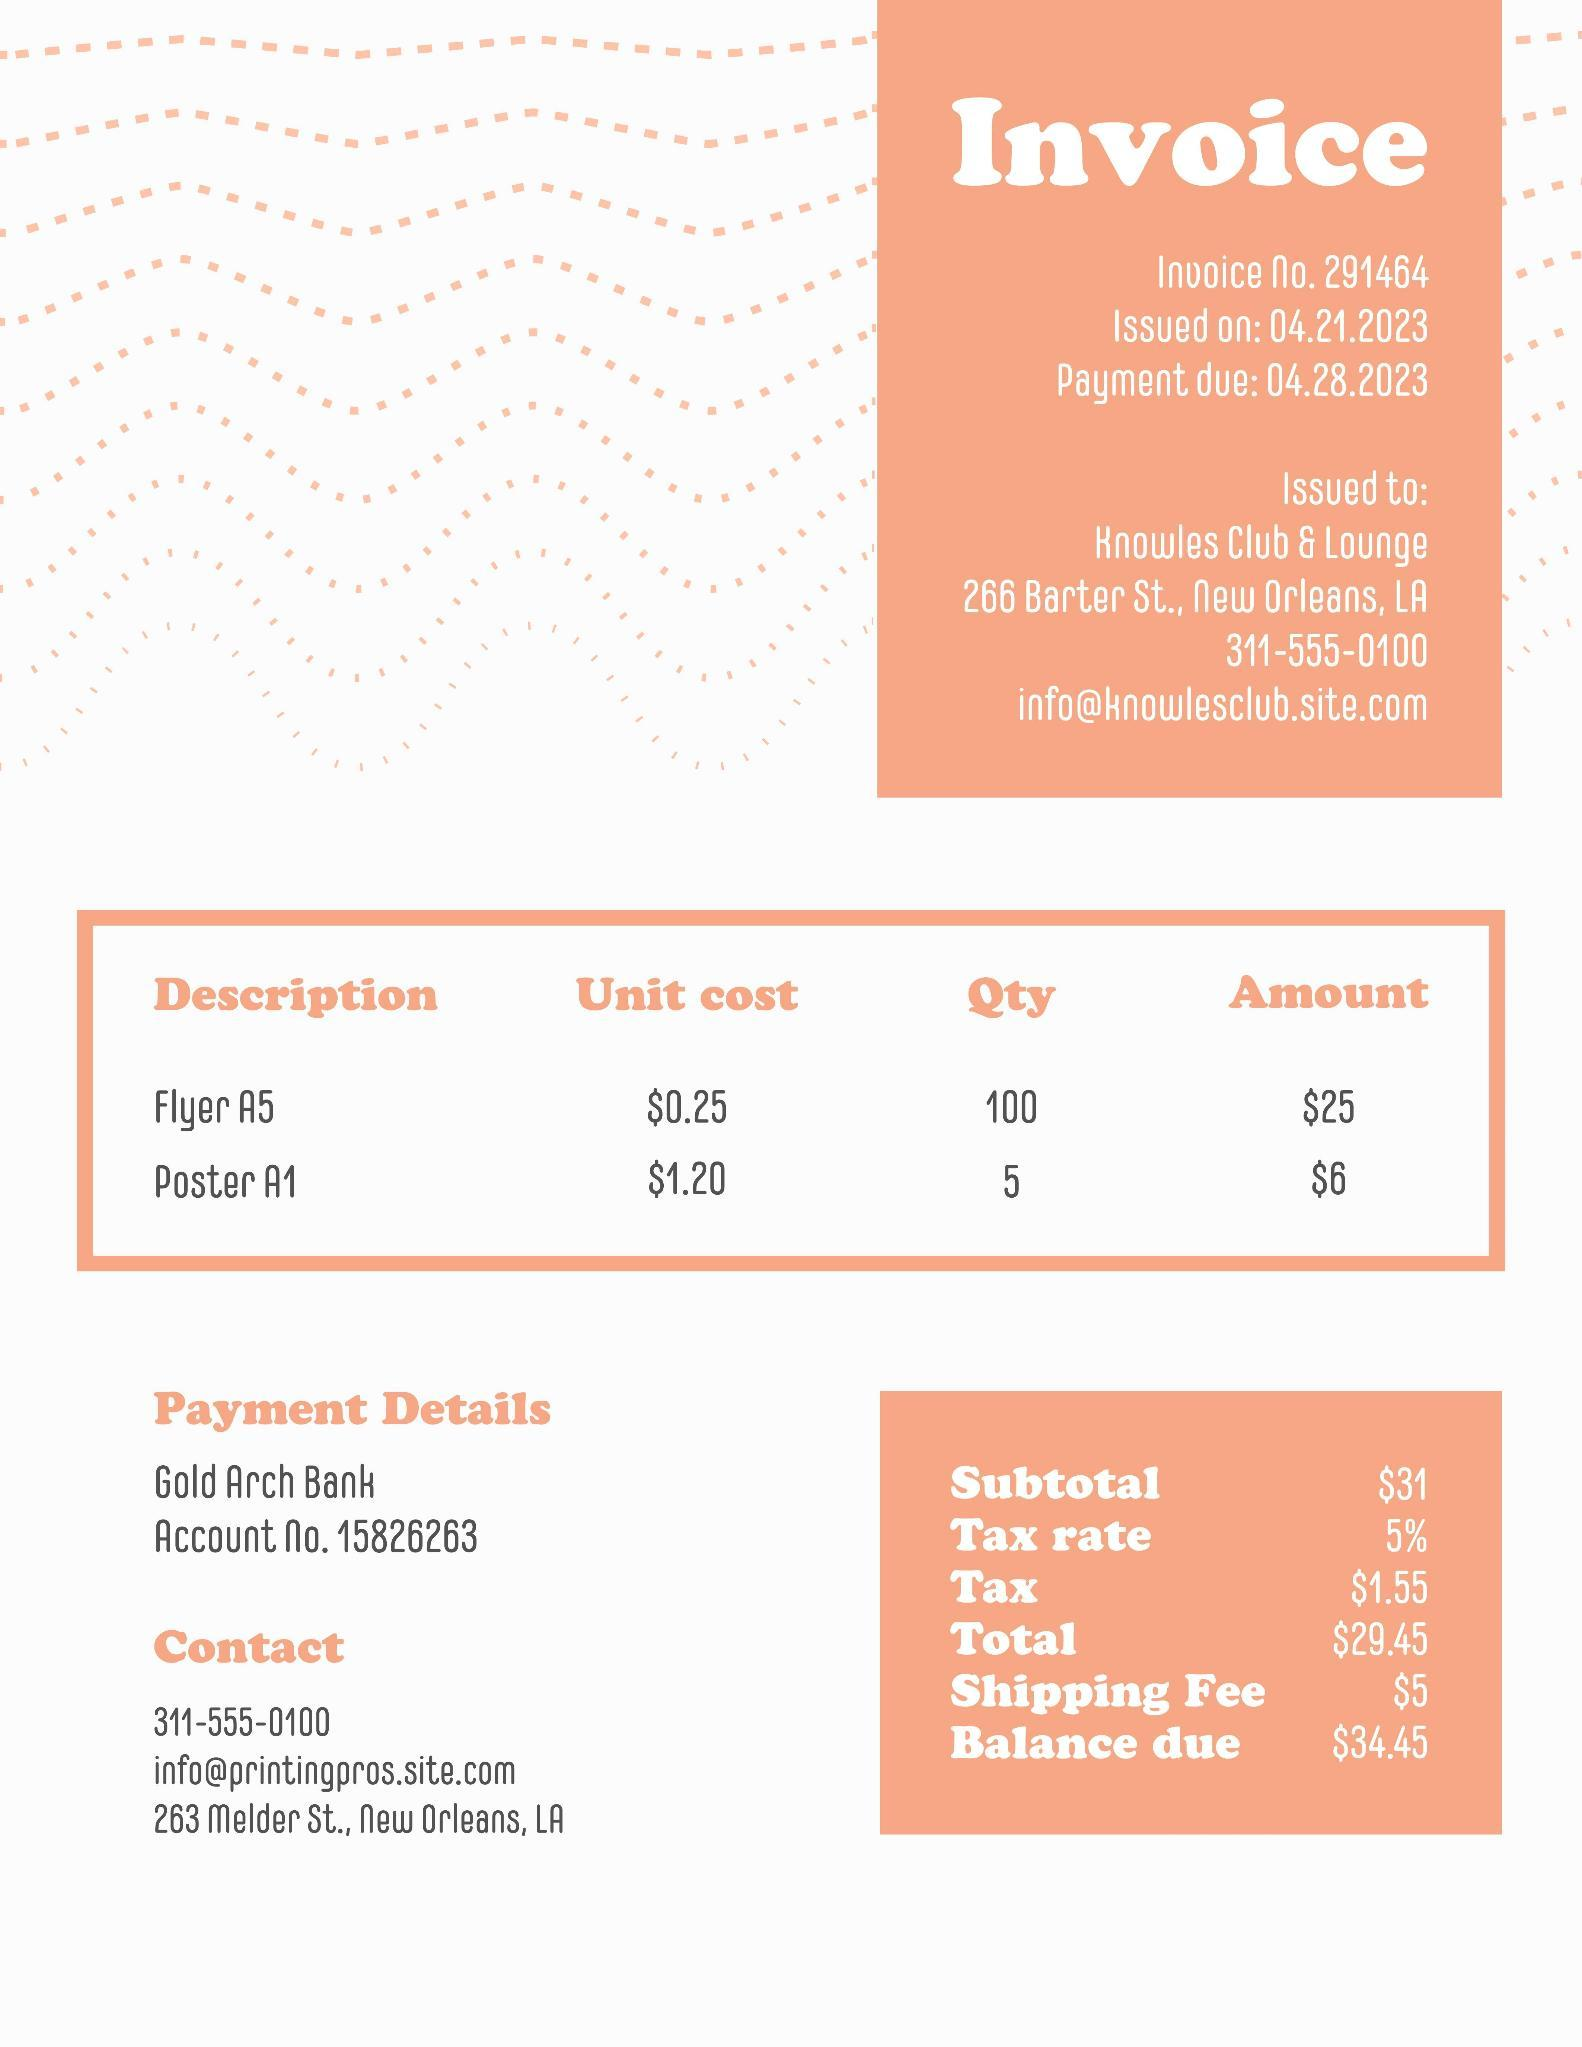ROI: (70, 911, 1521, 1273), (851, 1382, 1517, 1833), (914, 460, 1451, 758), (110, 1625, 636, 1884), (116, 1361, 615, 1593), (985, 236, 1476, 427), (914, 58, 1449, 219)
